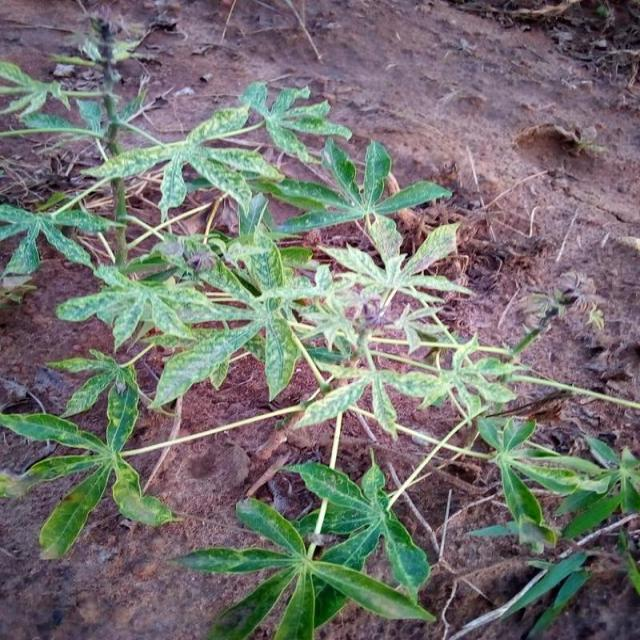cassava leaf: (1, 14, 636, 636), (170, 494, 435, 638)
